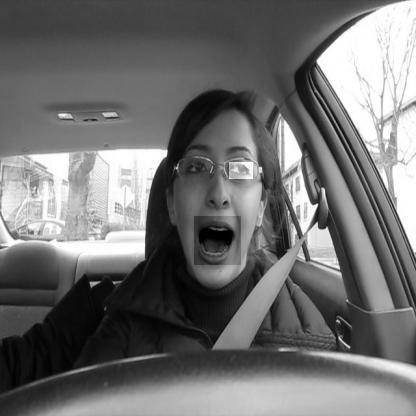seatbelt: (128, 84, 337, 348)
